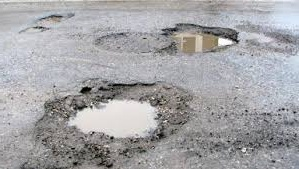pothole: (36, 86, 190, 154), (159, 25, 238, 57), (88, 29, 155, 54), (34, 9, 70, 24), (14, 25, 48, 32)
